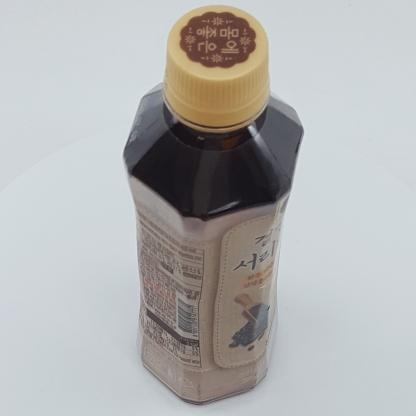----------350ML: (123, 5, 304, 406)
